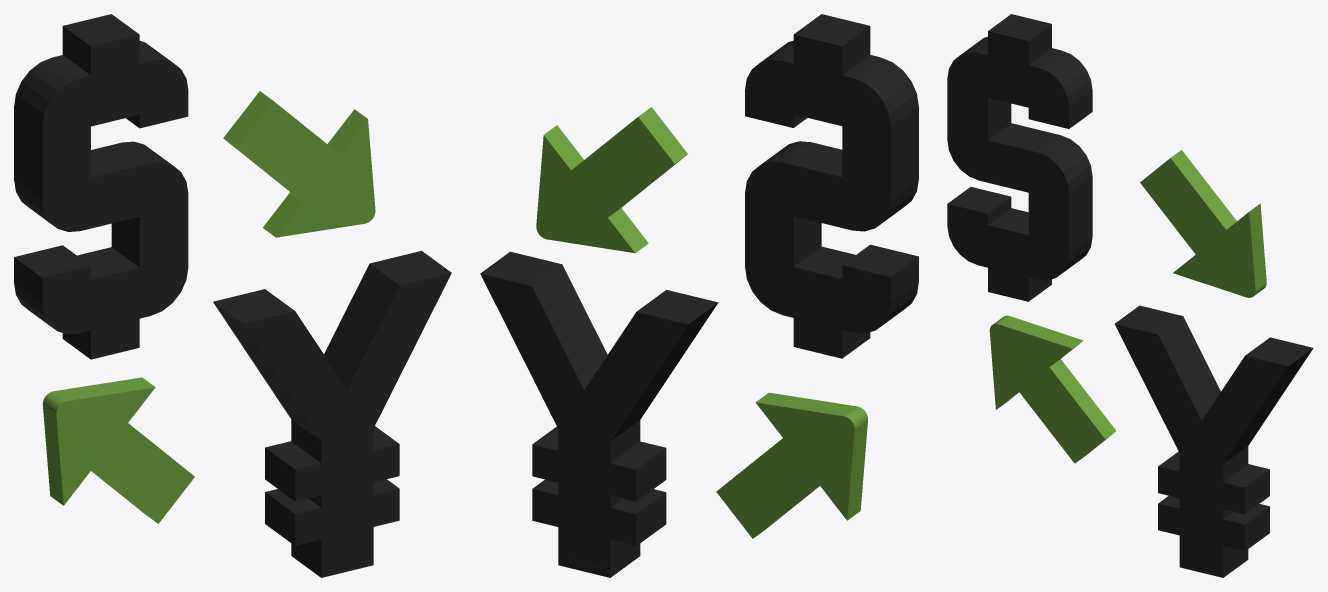
File: currency_exchange.glb
3 views of the same model, side by side, from view 1: azimuth 30°, elevation 25°; view 2: azimuth 150°, elevation 25°; view 3: azimuth 330°, elevation 25° (orthographic). The views are drawn at different scales.
Parts seen in each view (by area): view 1: Cube.6454; view 2: Cube.6454; view 3: Cube.6454.
Boxes of the visible parts, <box> form: Cube.6454: <box>14,14,451,577</box>; Cube.6454: <box>480,14,918,577</box>; Cube.6454: <box>947,14,1313,577</box>.
Size of the model in its own units: 1.55 by 2.13 by 0.2094.
1 material, 1 textured.
